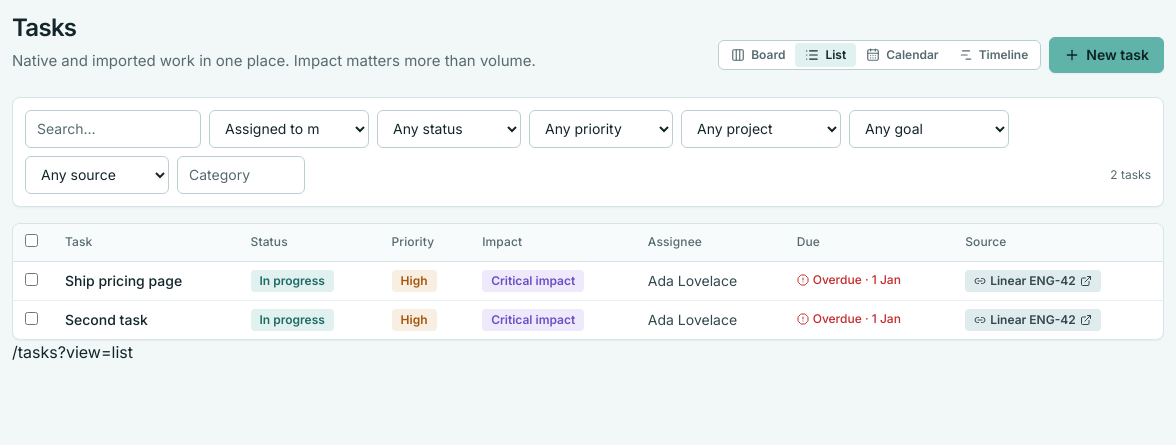
Test: TasksPage › switches to the list view and supports bulk selection
The image size is (1176, 445).
Click the checkbox named "select all" at (32, 240), box [25, 234, 38, 246]
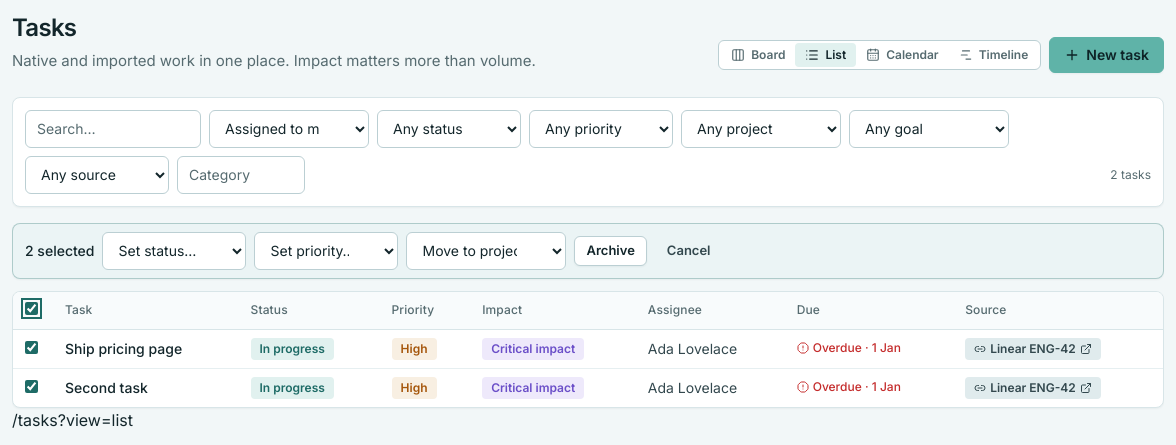
Expected: the text "2 selected" is shown, [25, 240, 94, 260]
